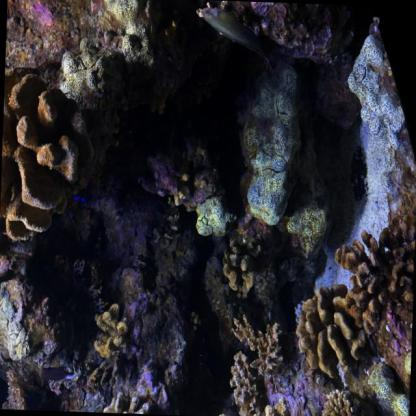fish: (196, 4, 277, 72), (41, 366, 74, 382)
